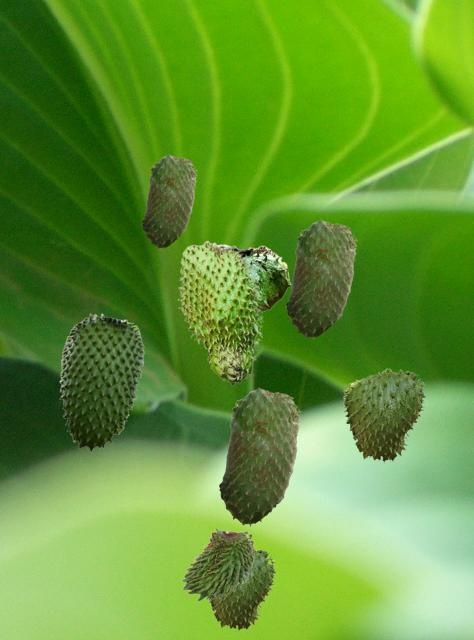guyabano: (177, 240, 263, 385), (59, 313, 143, 451), (218, 387, 300, 525), (285, 219, 356, 338), (343, 368, 426, 463), (207, 548, 276, 631), (181, 527, 254, 600), (141, 154, 196, 248), (218, 244, 290, 313)
